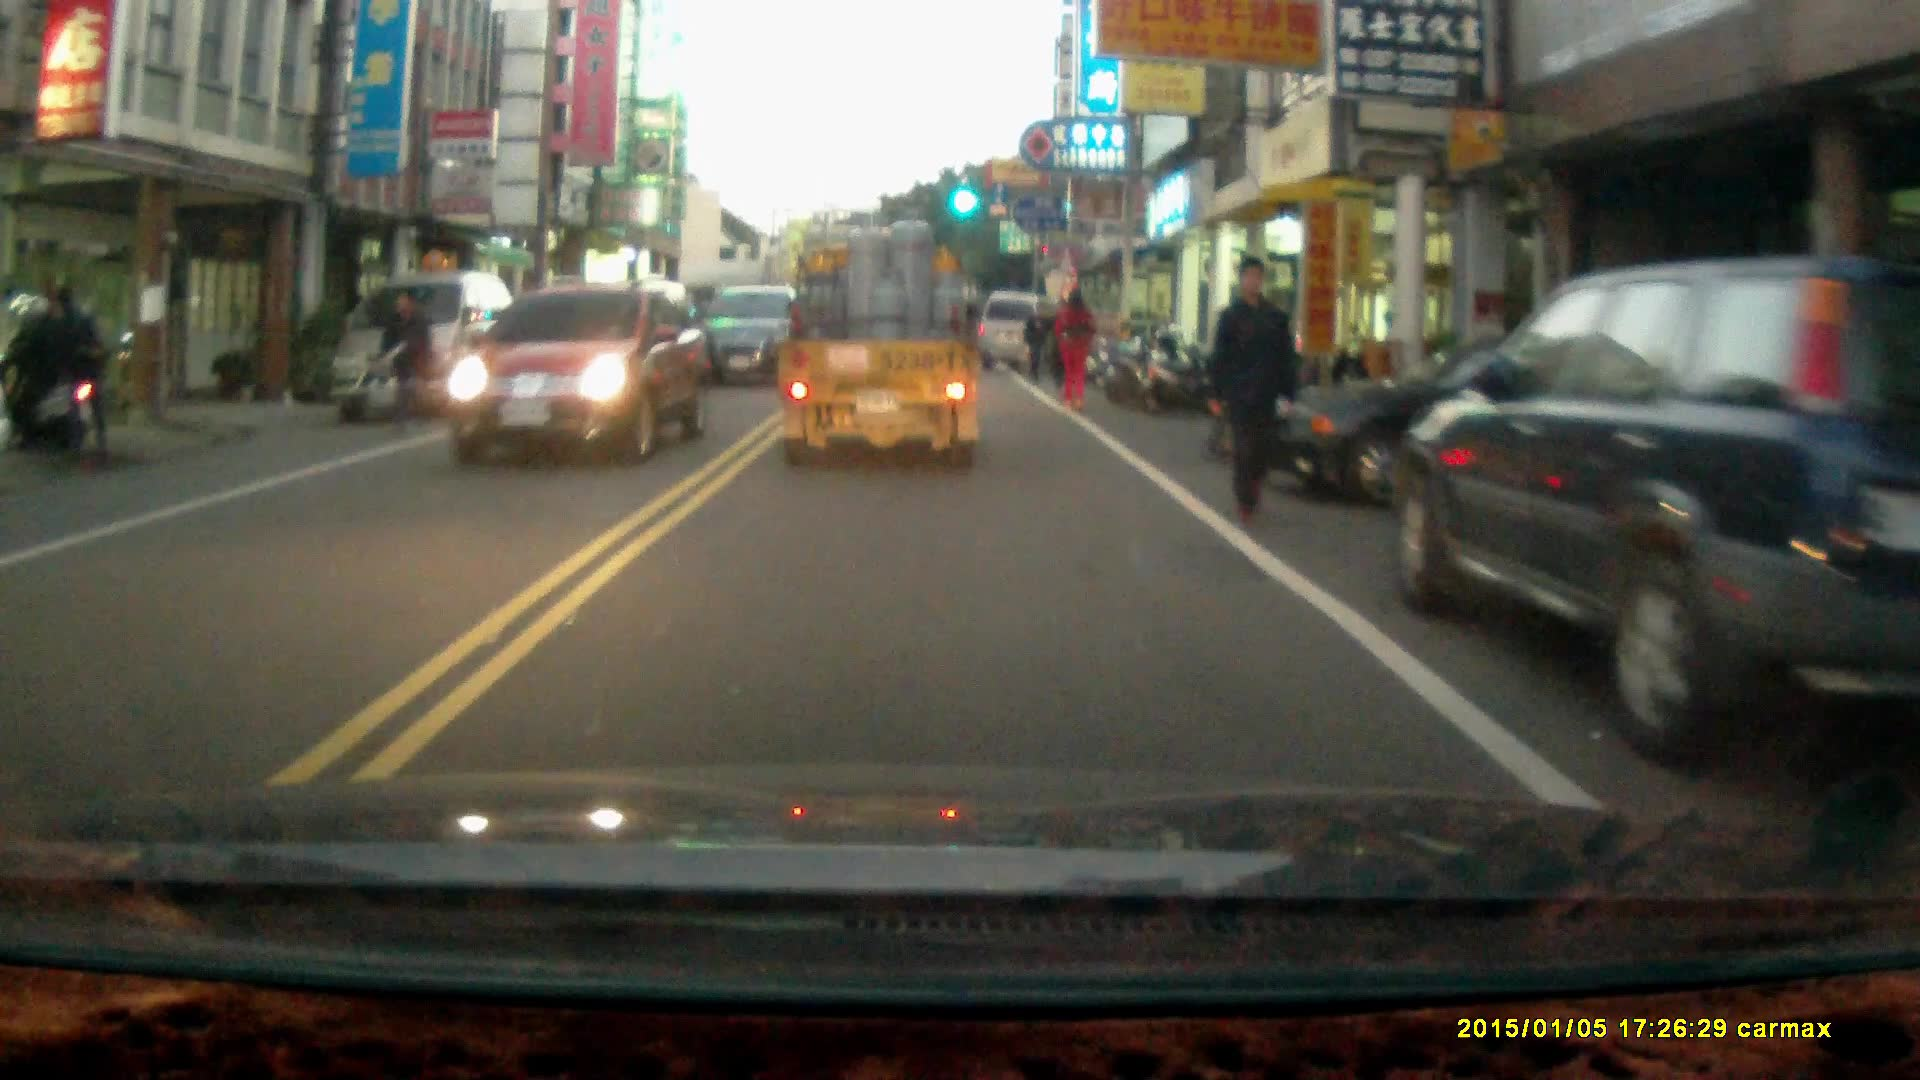pedestrian: (1207, 252, 1299, 527), (46, 279, 117, 459), (379, 288, 433, 432), (1051, 278, 1092, 409), (1020, 300, 1052, 381)
rider: (0, 290, 95, 455)
vehicle: (1386, 250, 1917, 788), (775, 207, 984, 476), (439, 277, 716, 461), (696, 281, 800, 389), (984, 286, 1061, 373)
